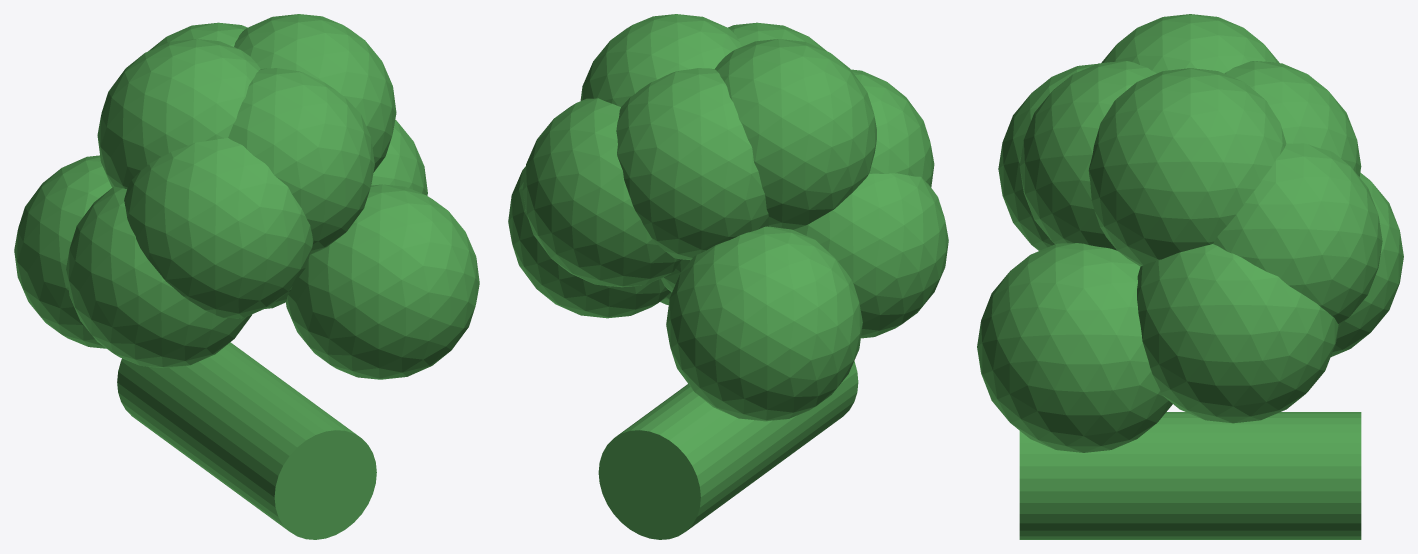
3 views of the same model, side by side, from view 1: azimuth 30°, elevation 25°; view 2: azimuth 150°, elevation 25°; view 3: azimuth 270°, elevation 25° (orthographic). The views are drawn at different scales.
Parts seen in each view (by area): view 1: world; view 2: world; view 3: world.
Part boxes in pixels (box(x1,y1,x2,y2)): world: box(14, 14, 479, 539); world: box(508, 14, 948, 539); world: box(977, 14, 1403, 539).
Bounding box in the file's own units: 1.1 × 1.25 × 1.
